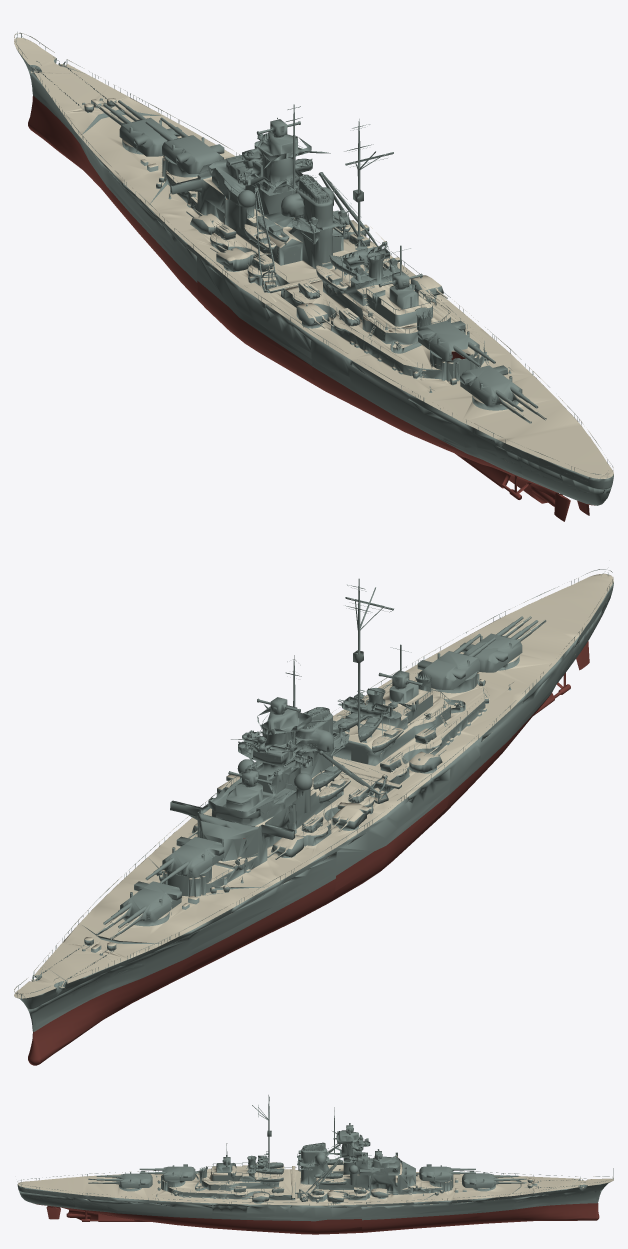
File: bismarck.glb
3 renders of one model, top to bottom at view 1: azimuth 30°, elevation 25°; view 2: azimuth 150°, elevation 25°; view 3: azimuth 270°, elevation 25°, orthographic. The views are drawn at different scales.
Parts seen in each view (by area): view 1: Hull, Body (×4); view 2: Hull, Body (×4); view 3: Hull, Body (×4).
Part boxes in pixels (box(x1,y1,x2,y2)): Hull: box(14, 32, 613, 521); Body (×4): box(119, 117, 522, 405); Hull: box(14, 569, 613, 1065); Body (×4): box(120, 633, 522, 921); Hull: box(17, 1095, 613, 1234); Body (×4): box(116, 1164, 498, 1188).
Bounding box in the file's own units: 36.69 × 59.57 × 257.
